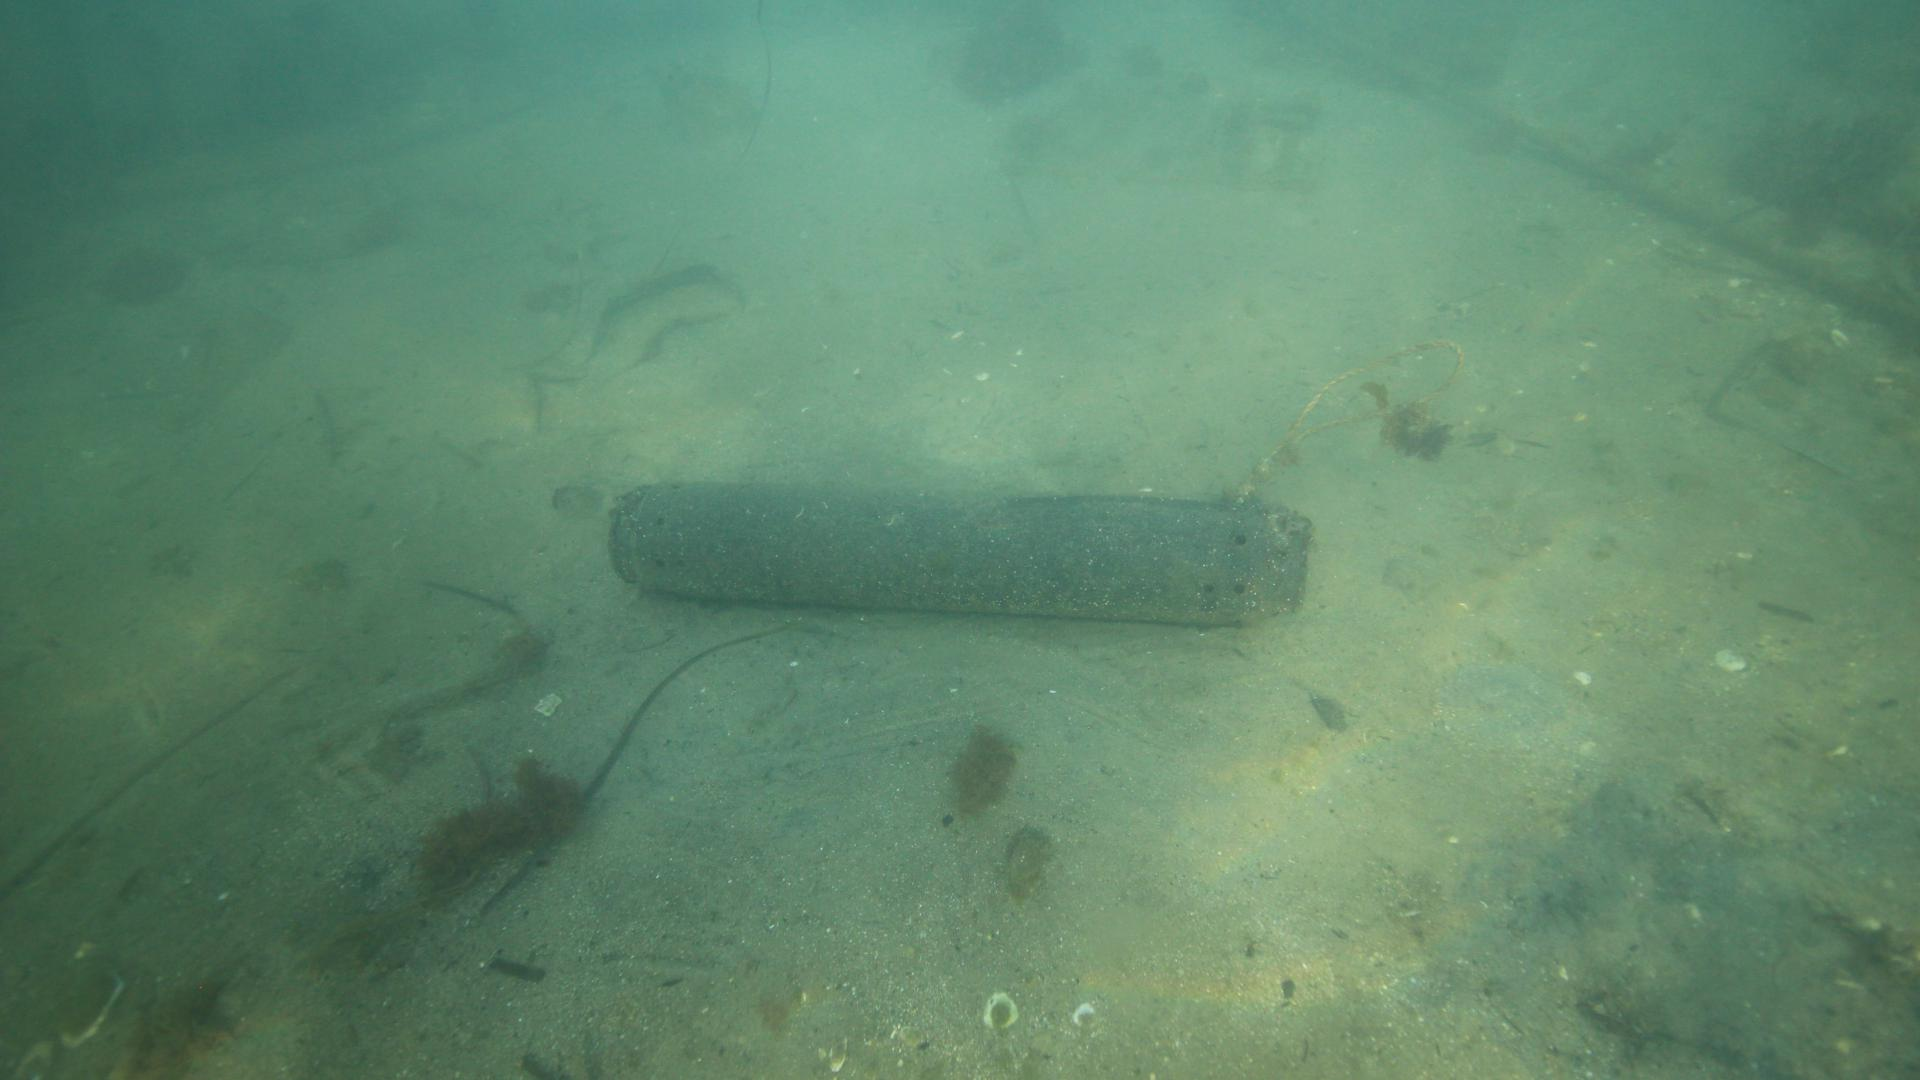bundle of ropes: (1236, 339, 1462, 498)
eel fish trap: (607, 481, 1315, 626)
